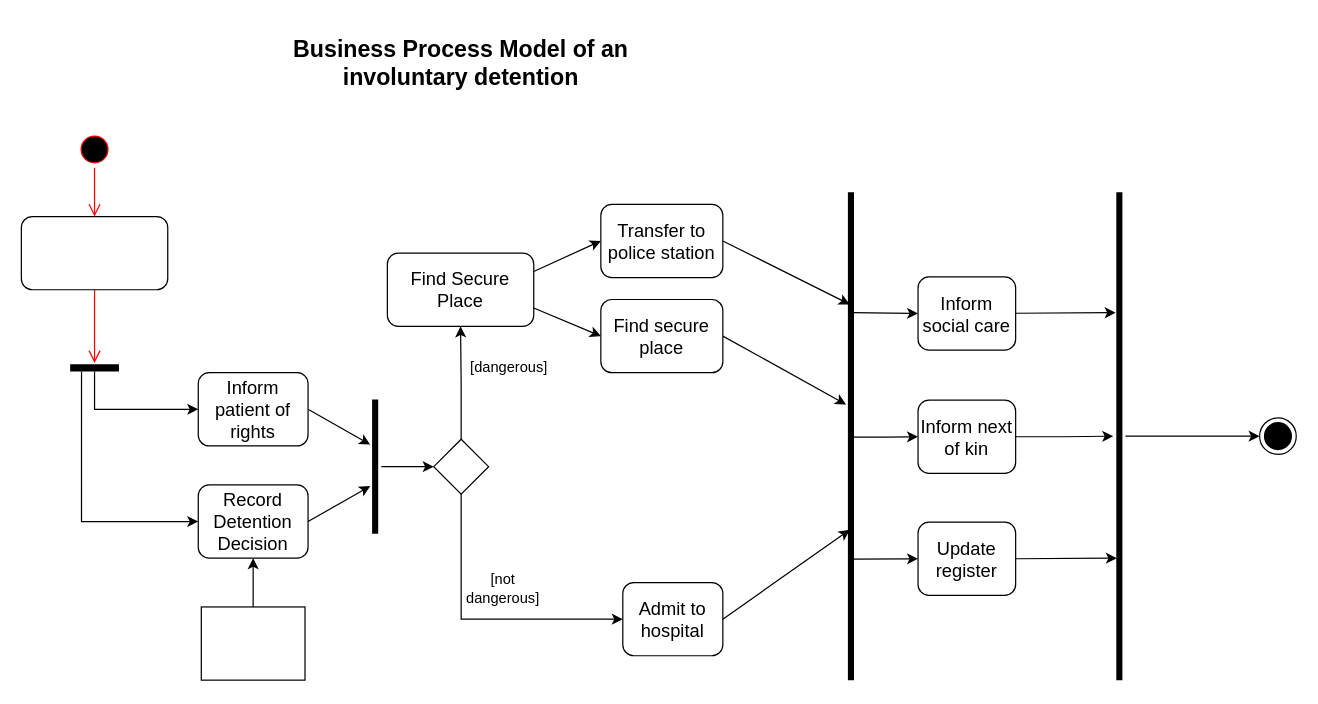
The diagram is 1318 pixels wide and 704 high, and some of its shapes have lost their labels. Here are the shapes that lost their labels. From the top down, the centre of each, then its label:
At pixel 94 252: "Confirm detention decision".
At pixel 252 643: "<< System>> Mentcare".
